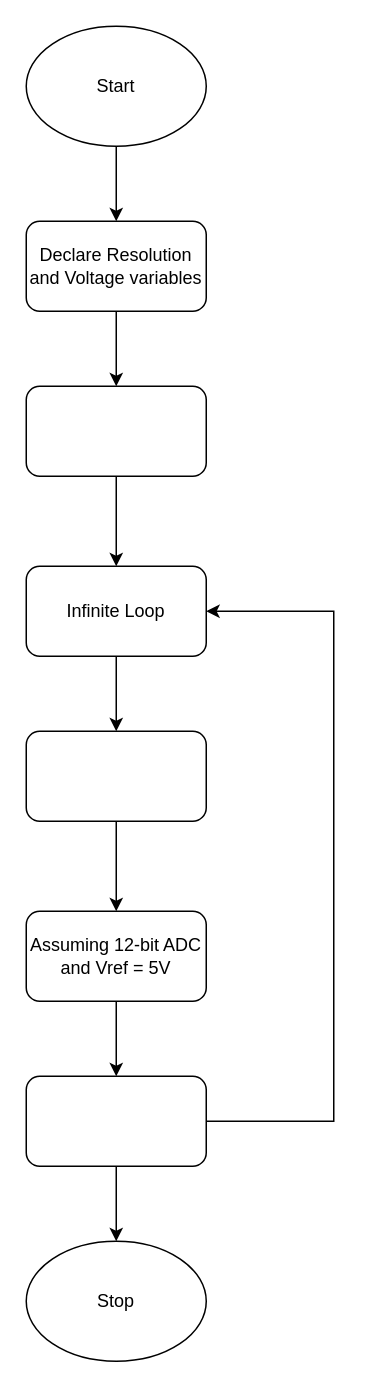
The diagram is 372 pixels wide and 1388 high, and some of its shapes have lost their labels. The shapes that lost their labels are listed below. From the top down, each one's centre as x and y in pixels, then its label:
[115,430]: Call ADC0_Configure function
[115,775]: Read ADC result from FIFO
[115,1120]: Convert ADC resolution to voltage
